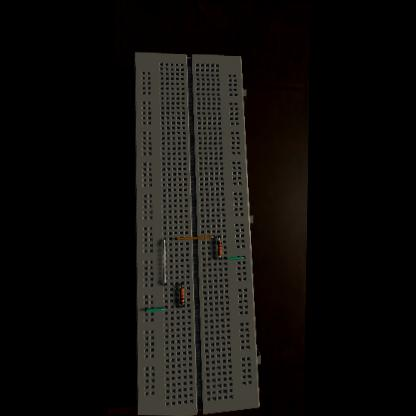breadboard: (126, 53, 264, 416)
resistor: (178, 288, 183, 304), (215, 240, 220, 254)
wire: (160, 238, 166, 284), (173, 235, 212, 240), (142, 305, 164, 311), (222, 256, 242, 259), (180, 282, 181, 288), (216, 235, 217, 239), (218, 256, 219, 258), (180, 304, 181, 306)
